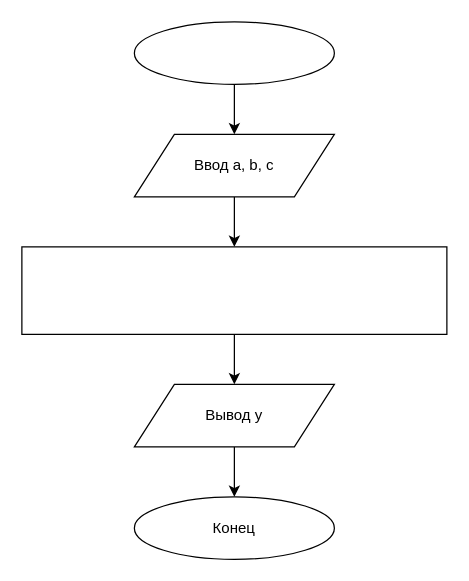
Some shapes in this 469 by 581 pixel diagram are drawn without their labels. Here are the shapes that lost their labels. From the top down, the centre of each, then its label:
At pixel 233 52: "Начало".
At pixel 234 290: "y = sqrt(arcsin^2 b + 1) / (c(e^a+|b|))".
